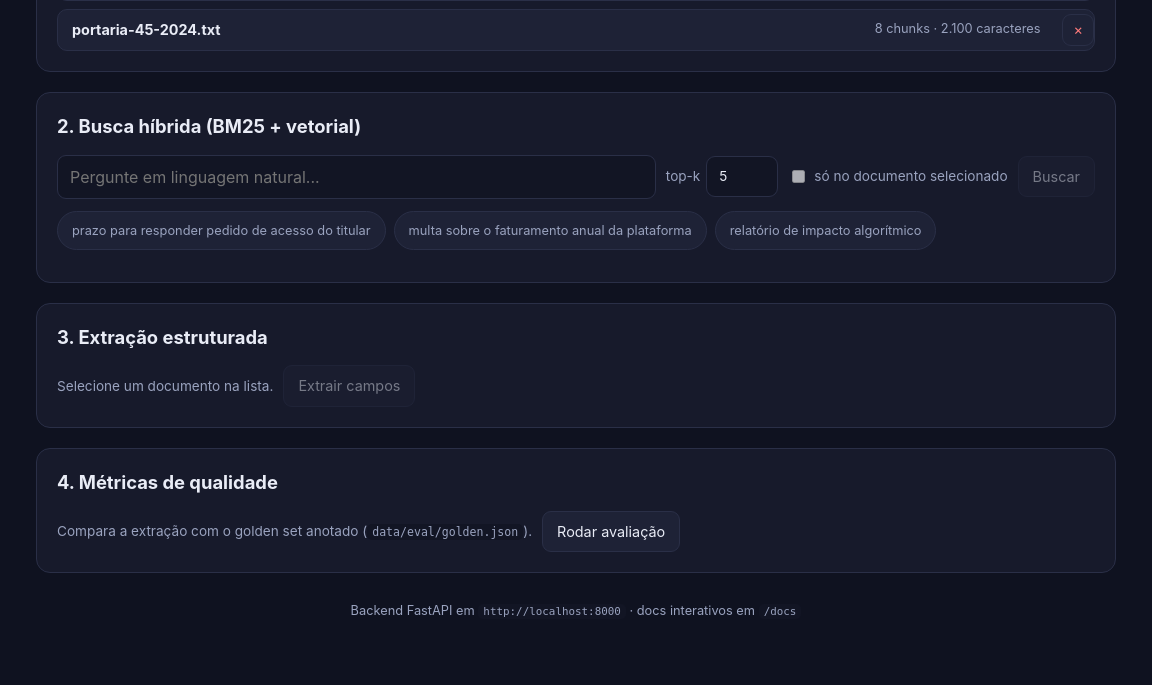
Test: App › exibe erro quando a API falha
(page scrolled)
Step 1. Click the button "Rodar avaliação" → (611, 532), box [542, 511, 680, 552]
(page scrolled)
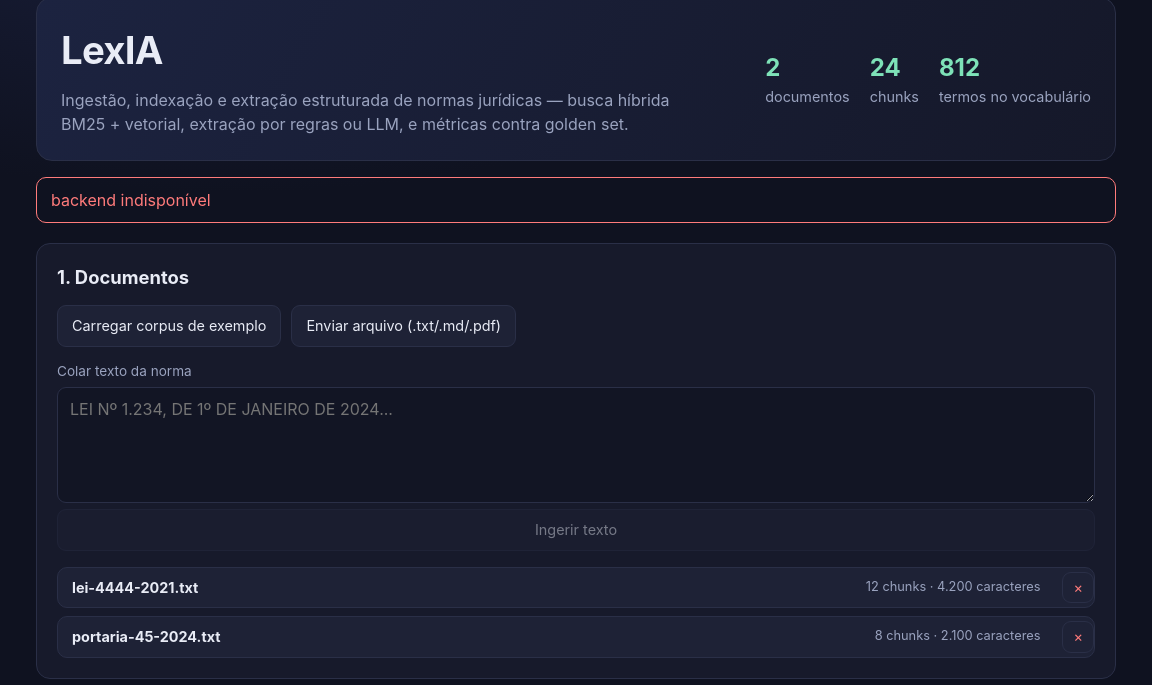
Check: the message reads "backend indisponível", box [51, 190, 211, 210]
